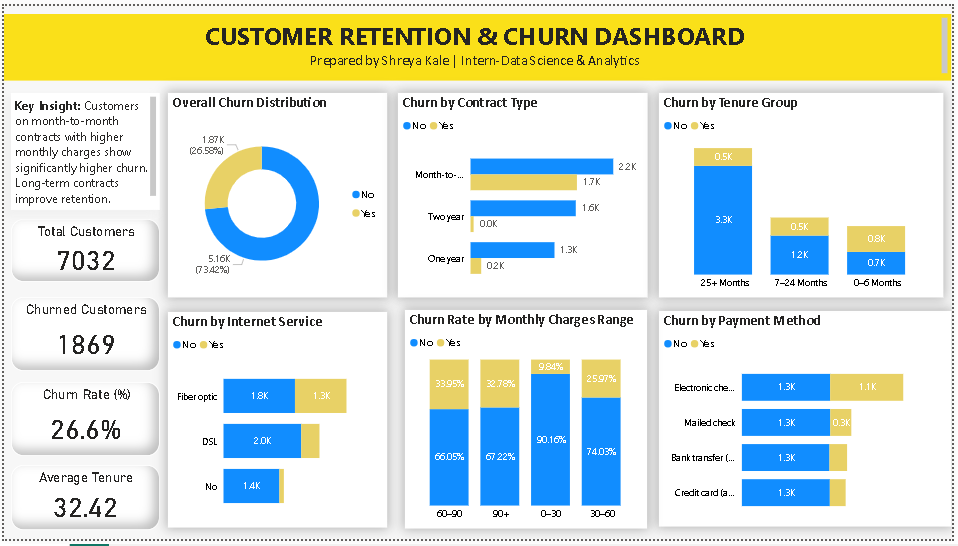

The page's visual inventory and layout, read from the dashboard file:
{"tool":"powerbi","page":{"name":"Page 1","canvas":[1280,720],"ordinal":0},"visuals":[{"type":"textbox","box":[0,11.4,1280,90],"z":0},{"type":"card","title":"Total Customers","fields":{"Values":["CountNonNull(Telco-Customer-Churn.customerID)"]},"box":[9.5,287.8,201.4,85.1],"z":1000},{"type":"card","title":"Churned Customers","fields":{"Values":["CountNonNull(Telco-Customer-Churn.customerID)"]},"box":[9.5,393.2,201.4,100],"z":2000},{"type":"card","title":"Average Tenure","fields":{"Values":["Avg(Telco-Customer-Churn.tenure)"]},"box":[9.5,620.3,201.4,87.8],"z":3000},{"type":"donutChart","title":"Overall Churn Distribution","fields":{"Category":["Telco-Customer-Churn.Churn"],"Y":["CountNonNull(Telco-Customer-Churn.customerID)"]},"box":[221.4,117.1,295.7,275.7],"z":4000},{"type":"barChart","title":"Churn by Internet Service","fields":{"Category":["Telco-Customer-Churn.InternetService"],"Y":["CountNonNull(Telco-Customer-Churn.customerID)"],"Series":["Telco-Customer-Churn.Churn"]},"box":[221.4,412.9,295.7,291.4],"z":5000},{"type":"clusteredBarChart","title":"Churn by Contract Type","fields":{"Category":["Telco-Customer-Churn.Contract"],"Y":["CountNonNull(Telco-Customer-Churn.customerID)"],"Series":["Telco-Customer-Churn.Churn"]},"box":[532.9,117.1,337.1,275.7],"z":6000},{"type":"barChart","title":"Churn by Payment Method","fields":{"Category":["Telco-Customer-Churn.PaymentMethod"],"Y":["CountNonNull(Telco-Customer-Churn.customerID)"],"Series":["Telco-Customer-Churn.Churn"]},"box":[885.1,412.2,394.6,290.5],"z":7000},{"type":"columnChart","title":"Churn by Tenure Group","fields":{"Category":["Telco-Customer-Churn.Tenure Group"],"Y":["CountNonNull(Telco-Customer-Churn.customerID)"],"Series":["Telco-Customer-Churn.Churn"]},"box":[885.7,117.1,384.3,275.7],"z":8000},{"type":"card","title":"Churn Rate (%)","fields":{"Values":["Telco-Customer-Churn.Churn Rate %"]},"box":[9.5,508.1,201.4,100],"z":9000},{"type":"hundredPercentStackedColumnChart","title":"Churn Rate by Monthly Charges Range","fields":{"Y":["CountNonNull(Telco-Customer-Churn.customerID)"],"Series":["Telco-Customer-Churn.Churn"],"Category":["Telco-Customer-Churn.MonthlyCharges Group"]},"box":[541.9,410.8,327,294.6],"z":10000},{"type":"textbox","box":[9.5,117.6,201.4,158.1],"z":11000}]}

Visuals, with their boxes in screenshot pixels (x1, y1, x2, y2), scaled from the page's 1280x720 canvas onto the 958x546 screenshot:
textbox: bbox=(0, 9, 957, 77)
"Total Customers" card: bbox=(7, 218, 158, 283)
"Churned Customers" card: bbox=(7, 298, 158, 374)
"Average Tenure" card: bbox=(7, 470, 158, 537)
"Overall Churn Distribution" donutChart: bbox=(166, 89, 387, 298)
"Churn by Internet Service" barChart: bbox=(166, 313, 387, 534)
"Churn by Contract Type" clusteredBarChart: bbox=(399, 89, 651, 298)
"Churn by Payment Method" barChart: bbox=(662, 313, 957, 533)
"Churn by Tenure Group" columnChart: bbox=(663, 89, 951, 298)
"Churn Rate (%)" card: bbox=(7, 385, 158, 461)
"Churn Rate by Monthly Charges Range" hundredPercentStackedColumnChart: bbox=(406, 312, 650, 535)
textbox: bbox=(7, 89, 158, 209)
